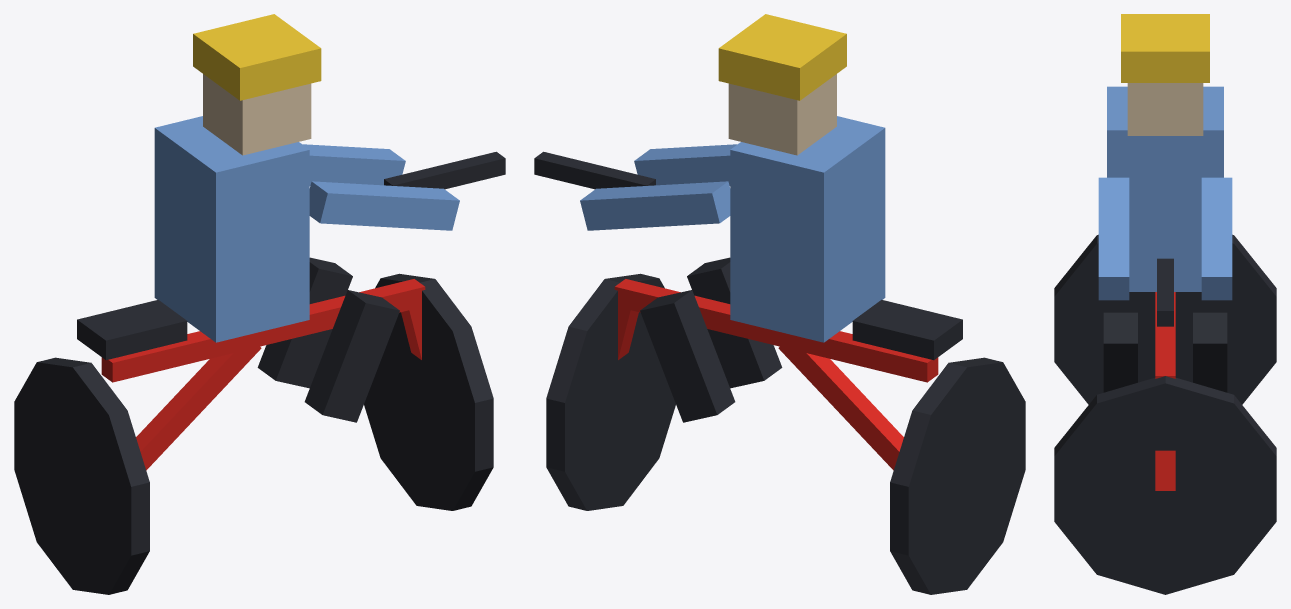
The model's file is ciclista.obj.
3 renders of one model, left to right at view 1: azimuth 30°, elevation 25°; view 2: azimuth 150°, elevation 25°; view 3: azimuth 270°, elevation 25°, orthographic. The views are drawn at different scales.
Visible parts, largest first — view 1: ciclista; view 2: ciclista; view 3: ciclista.
Boxes of the visible parts, x1,y1,x2,y2 form: ciclista: [14, 14, 505, 594]; ciclista: [534, 14, 1025, 594]; ciclista: [1054, 14, 1276, 594].
Bounding box in the file's own units: 1.37 × 1.54 × 0.6468.
